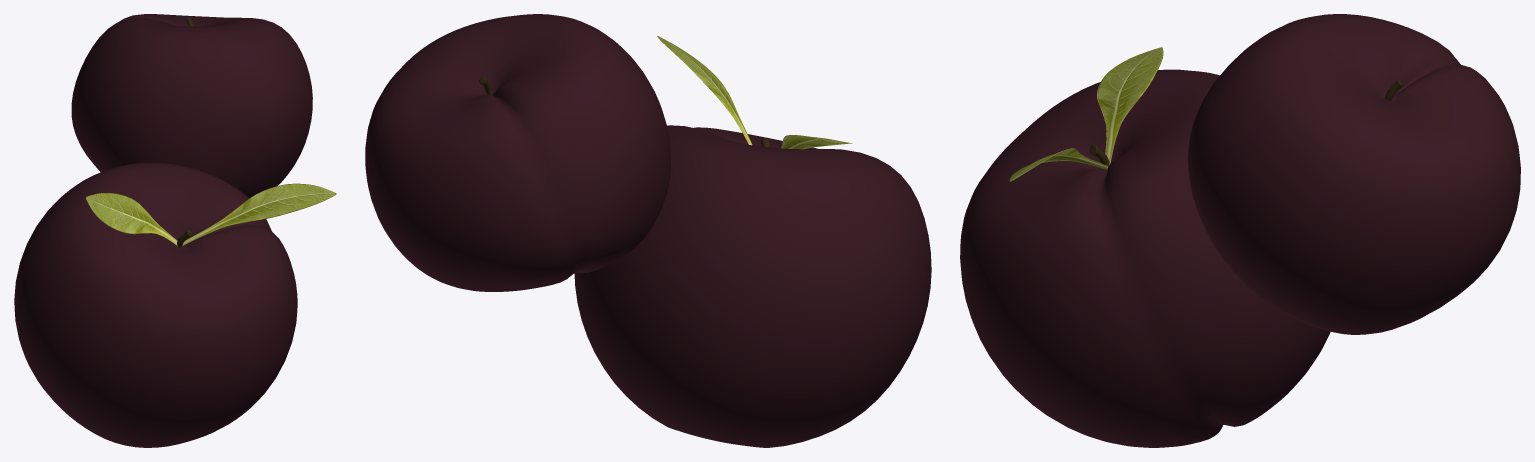
3 views of the same model, side by side, from view 1: azimuth 30°, elevation 25°; view 2: azimuth 150°, elevation 25°; view 3: azimuth 270°, elevation 25° (orthographic). The views are drawn at different scales.
Parts seen in each view (by area): view 1: Peach_3, Peach.001_5, Leaf_0, Leaf.001_1; view 2: Peach_3, Peach.001_5, Leaf_0, Leaf.001_1; view 3: Peach_3, Peach.001_5, Leaf.001_1, Leaf_0.
Part boxes in pixels (box(x1,y1,x2,y2)): Peach_3: box(14, 163, 297, 447); Peach.001_5: box(71, 14, 312, 198); Leaf_0: box(182, 183, 336, 245); Leaf.001_1: box(86, 193, 177, 245); Peach_3: box(574, 125, 931, 447); Peach.001_5: box(365, 14, 670, 291); Leaf_0: box(657, 35, 752, 145); Leaf.001_1: box(781, 135, 852, 149); Peach_3: box(960, 69, 1330, 447); Peach.001_5: box(1188, 14, 1520, 334); Leaf.001_1: box(1097, 47, 1163, 165); Leaf_0: box(1009, 148, 1108, 181).
Size of the model in its own units: 0.1328 by 0.1263 by 0.1396.
Materials: 3 (1 with a texture image).
